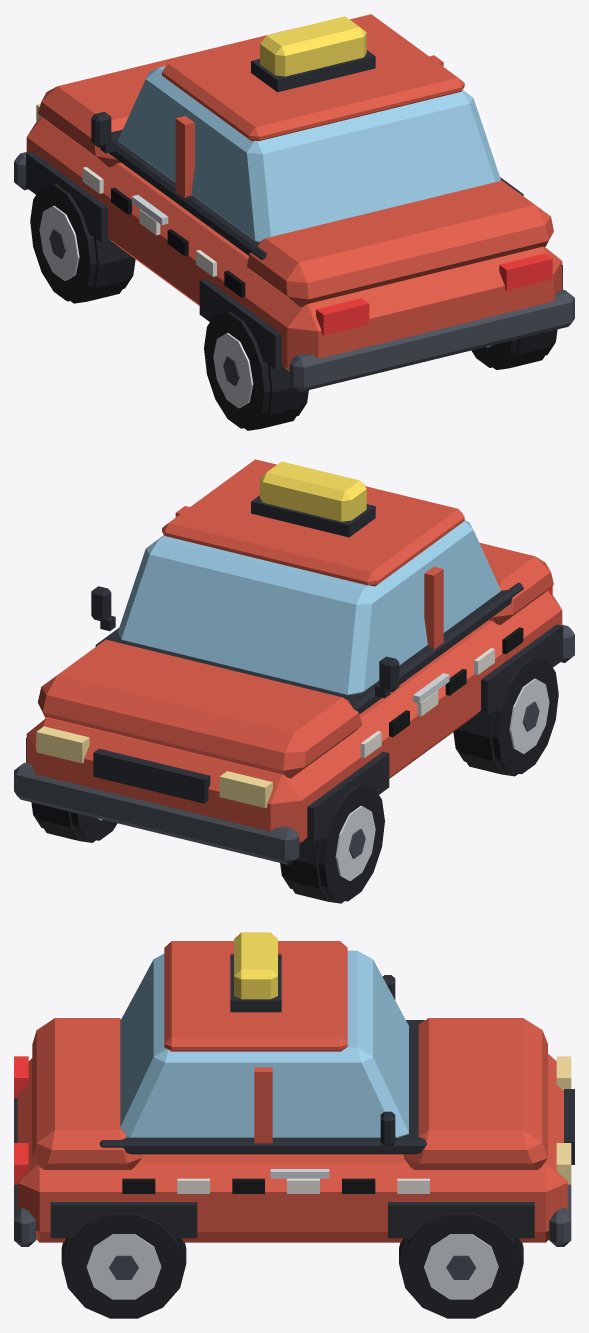
The model's file is taxi.glb.
3 views of the same model, one above another, from view 1: azimuth 30°, elevation 25°; view 2: azimuth 150°, elevation 25°; view 3: azimuth 270°, elevation 25° (orthographic). The views are drawn at different scales.
Visible parts, largest first — view 1: Body, Wheel_0L, Wheel_1L, Wheel_1R; view 2: Body, Wheel_1L, Wheel_0L, Wheel_0R; view 3: Body, Wheel_1R, Wheel_0R.
Boxes of the visible parts, bbox=[...] form: Body: bbox=[14, 14, 574, 392]; Wheel_0L: bbox=[30, 184, 135, 303]; Wheel_1L: bbox=[204, 311, 308, 430]; Wheel_1R: bbox=[471, 329, 557, 369]; Body: bbox=[14, 459, 574, 864]; Wheel_1L: bbox=[453, 657, 558, 776]; Wheel_0L: bbox=[280, 784, 384, 903]; Wheel_0R: bbox=[31, 802, 117, 842]; Body: bbox=[14, 932, 574, 1246]; Wheel_1R: bbox=[61, 1213, 186, 1318]; Wheel_0R: bbox=[399, 1213, 523, 1318].
Size of the model in its own units: 0.93 by 0.9057 by 1.53.
Materials: 1 (1 with a texture image).
